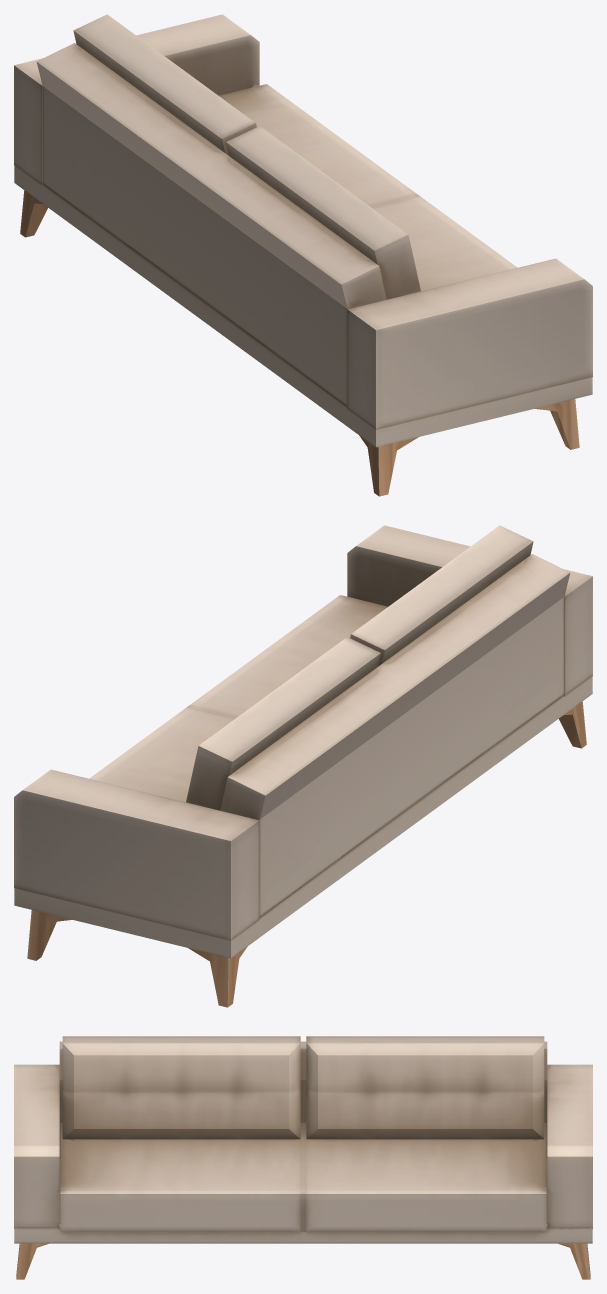
Rendered from couch03.glb.
The picture shows the model from 3 angles, top to bottom: view 1: azimuth 30°, elevation 25°; view 2: azimuth 150°, elevation 25°; view 3: azimuth 270°, elevation 25°; orthographic projection. The views are drawn at different scales.
Parts seen in each view (by area): view 1: sofa03; view 2: sofa03; view 3: sofa03.
Part boxes in pixels (x1,y1,x2,y2): sofa03: [14, 14, 592, 496]; sofa03: [14, 525, 592, 1007]; sofa03: [14, 1036, 592, 1279].
Bounding box in the file's own units: 0.7195 × 0.6773 × 1.96.
Materials: 1 (1 with a texture image).
